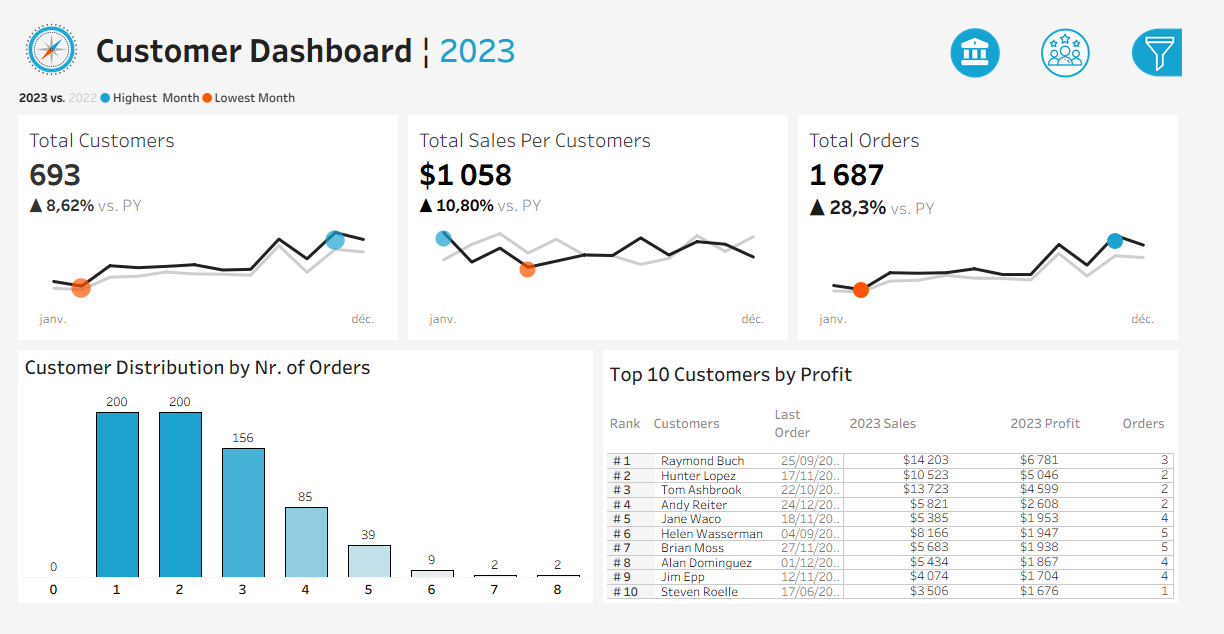

Layout of this report page (visuals, bound fields, positions):
{"tool":"tableau","page":{"name":"Customer Dashboard","canvas":[1170,590],"ordinal":0},"visuals":[{"type":"image","param":"Image/Icon - Logo.png","box":[0,0,76,62]},{"type":"text","box":[76,0,1094,62]},{"type":"dashboard-object","box":[916,5,91,59]},{"type":"dashboard-object","box":[1007,5,91,59]},{"type":"blank","box":[913,10,245,57]},{"type":"worksheet","title":"Legend KPI","mark":"Automatic","box":[0,62,1170,35]},{"type":"text","box":[913,67,245,34]},{"type":"worksheet","title":"KPI Customers","mark":"Line","rows":["Calculation_0526980019658752"],"cols":["Order Date"],"box":[0,97,390,230]},{"type":"worksheet","title":"KPI Sales Per Customers","mark":"Automatic","rows":["Calculation_0600096750096396"],"cols":["Order Date"],"box":[390,97,390,230]},{"type":"worksheet","title":"KPI Orders","mark":"Automatic","rows":["Calculation_0526980284678148"],"cols":["Order Date"],"box":[780,97,390,230]},{"type":"parameter","param":"[Parameters].[Parameter 1106414060244995]","box":[913,101,245,61]},{"type":"blank","box":[913,162,245,32]},{"type":"text","box":[913,194,245,29]},{"type":"filter","title":"KPI Customers","param":"[federated.1n523260sofu8w16nr70v16ka1ht].[none:Category:nk]","box":[913,223,245,52]},{"type":"filter","title":"KPI Customers","param":"[federated.1n523260sofu8w16nr70v16ka1ht].[none:Sub-Category:nk]","box":[913,275,245,52]},{"type":"text","box":[913,327,245,29]},{"type":"text","box":[5,332,575,32]},{"type":"text","box":[590,332,575,47]},{"type":"filter","title":"KPI Customers","param":"[federated.1n523260sofu8w16nr70v16ka1ht].[none:Region:nk]","box":[913,356,245,52]},{"type":"worksheet","title":"Customer Distribution","mark":"Bar","rows":["Calculation_0600096743424002"],"cols":["Calculation_0600096747311112"],"box":[5,364,575,221]},{"type":"text","box":[590,379,44,52]},{"type":"text","box":[634,379,121,52]},{"type":"text","box":[755,379,75,52]},{"type":"text","box":[830,379,161.5,52]},{"type":"text","box":[991.5,379,112,52]},{"type":"text","box":[1103.5,379,61.5,52]},{"type":"filter","title":"KPI Customers","param":"[federated.1n523260sofu8w16nr70v16ka1ht].[none:State:nk]","box":[913,408,245,52]},{"type":"worksheet","title":"Top Customers","mark":"Text","rows":["Calculation_0935724214456320","Customer Name","Order Date"],"box":[590,431,575,154]},{"type":"filter","title":"KPI Customers","param":"[federated.1n523260sofu8w16nr70v16ka1ht].[none:City:nk]","box":[913,460,245,52]}]}

Visuals, with their boxes in screenshot pixels (x1, y1, x2, y2), scaled from the page's 1170x590 canvas onto the 1224x634 screenshot:
image: pyautogui.locateOnScreen(0, 0, 80, 67)
text: pyautogui.locateOnScreen(80, 0, 1223, 67)
dashboard-object: pyautogui.locateOnScreen(958, 5, 1053, 69)
dashboard-object: pyautogui.locateOnScreen(1053, 5, 1149, 69)
blank: pyautogui.locateOnScreen(955, 11, 1211, 72)
"Legend KPI" worksheet: pyautogui.locateOnScreen(0, 67, 1223, 104)
text: pyautogui.locateOnScreen(955, 72, 1211, 109)
"KPI Customers" worksheet (Line marks): pyautogui.locateOnScreen(0, 104, 408, 351)
"KPI Sales Per Customers" worksheet: pyautogui.locateOnScreen(408, 104, 816, 351)
"KPI Orders" worksheet: pyautogui.locateOnScreen(816, 104, 1223, 351)
parameter: pyautogui.locateOnScreen(955, 109, 1211, 174)
blank: pyautogui.locateOnScreen(955, 174, 1211, 208)
text: pyautogui.locateOnScreen(955, 208, 1211, 240)
"KPI Customers" filter: pyautogui.locateOnScreen(955, 240, 1211, 296)
"KPI Customers" filter: pyautogui.locateOnScreen(955, 296, 1211, 351)
text: pyautogui.locateOnScreen(955, 351, 1211, 383)
text: pyautogui.locateOnScreen(5, 357, 607, 391)
text: pyautogui.locateOnScreen(617, 357, 1219, 407)
"KPI Customers" filter: pyautogui.locateOnScreen(955, 383, 1211, 438)
"Customer Distribution" worksheet (Bar marks): pyautogui.locateOnScreen(5, 391, 607, 629)
text: pyautogui.locateOnScreen(617, 407, 663, 463)
text: pyautogui.locateOnScreen(663, 407, 790, 463)
text: pyautogui.locateOnScreen(790, 407, 868, 463)
text: pyautogui.locateOnScreen(868, 407, 1037, 463)
text: pyautogui.locateOnScreen(1037, 407, 1154, 463)
text: pyautogui.locateOnScreen(1154, 407, 1219, 463)
"KPI Customers" filter: pyautogui.locateOnScreen(955, 438, 1211, 494)
"Top Customers" worksheet (Text marks): pyautogui.locateOnScreen(617, 463, 1219, 629)
"KPI Customers" filter: pyautogui.locateOnScreen(955, 494, 1211, 550)
